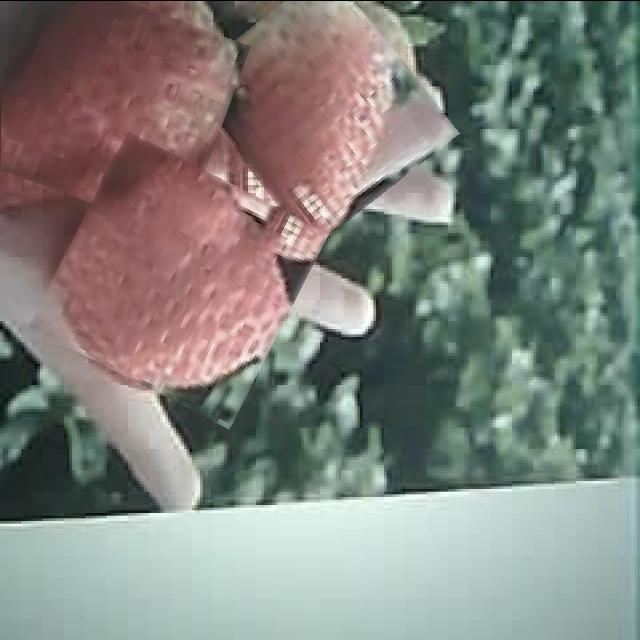strawberry: (46, 150, 310, 408), (205, 0, 438, 230), (0, 0, 237, 219)
